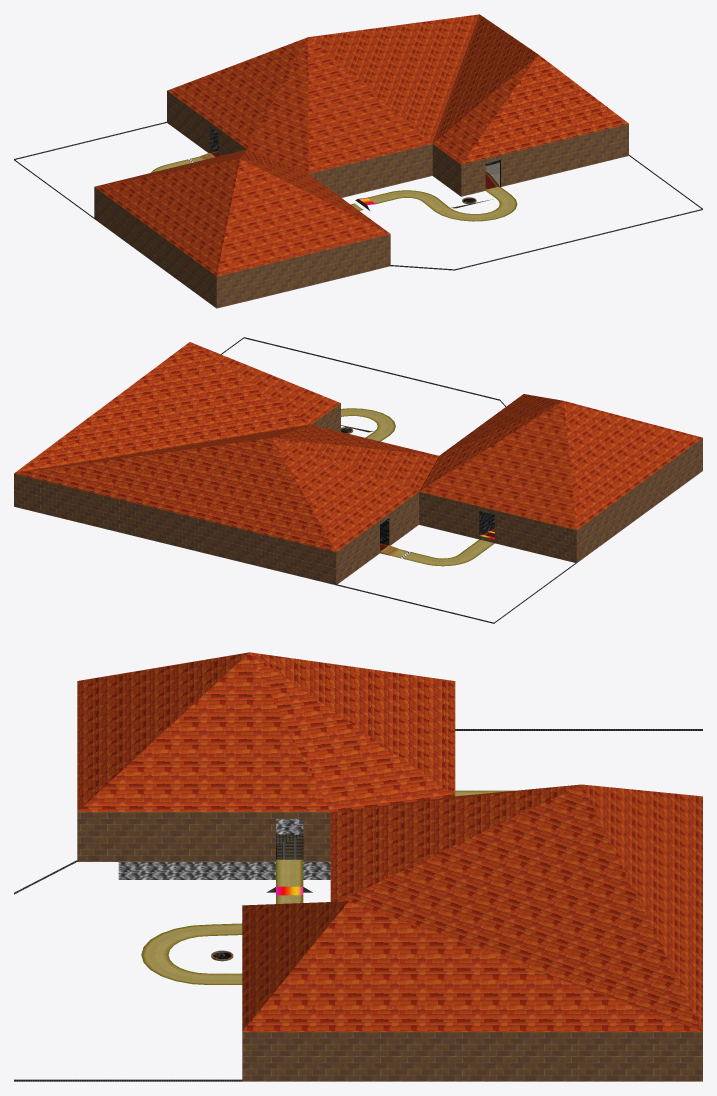
3 renders of one model, top to bottom at view 1: azimuth 30°, elevation 25°; view 2: azimuth 150°, elevation 25°; view 3: azimuth 270°, elevation 25°, orthographic. The views are drawn at different scales.
Parts seen in each view (by area): view 1: Unsuspicious_Lair_SKP__Roof, Unsuspicious_Lair_SKP__Brick, Unsuspicious_Lair_SKP__Road, Unsuspicious_Lair_SKP__Fence; view 2: Unsuspicious_Lair_SKP__Roof, Unsuspicious_Lair_SKP__Brick, Unsuspicious_Lair_SKP__Road, Unsuspicious_Lair_SKP__Fence, Unsuspicious_Lair_SKP__Brick2; view 3: Unsuspicious_Lair_SKP__Roof, Unsuspicious_Lair_SKP__Brick, Unsuspicious_Lair_SKP__Road, Unsuspicious_Lair_SKP__ef_yoganAmi1, Unsuspicious_Lair_SKP__Fence, Unsuspicious_Lair_SKP__Rail.
Boxes of the visible parts, x1,y1,x2,y2 form: Unsuspicious_Lair_SKP__Roof: (94, 14, 628, 276); Unsuspicious_Lair_SKP__Brick: (94, 91, 628, 308); Unsuspicious_Lair_SKP__Road: (151, 156, 517, 221); Unsuspicious_Lair_SKP__Fence: (14, 121, 702, 270); Unsuspicious_Lair_SKP__Roof: (14, 342, 702, 551); Unsuspicious_Lair_SKP__Brick: (14, 403, 702, 585); Unsuspicious_Lair_SKP__Road: (341, 408, 494, 566); Unsuspicious_Lair_SKP__Fence: (221, 337, 576, 623); Unsuspicious_Lair_SKP__Brick2: (380, 511, 494, 544); Unsuspicious_Lair_SKP__Roof: (77, 652, 702, 1031); Unsuspicious_Lair_SKP__Brick: (77, 812, 702, 1081); Unsuspicious_Lair_SKP__Road: (141, 790, 513, 984); Unsuspicious_Lair_SKP__ef_yoganAmi1: (118, 819, 330, 879); Unsuspicious_Lair_SKP__Fence: (14, 729, 702, 1081); Unsuspicious_Lair_SKP__Rail: (276, 834, 303, 859).
Size of what is drawn, in the model's own units: 106401 by 22456 by 88322.
Materials: 16 (16 with a texture image).
